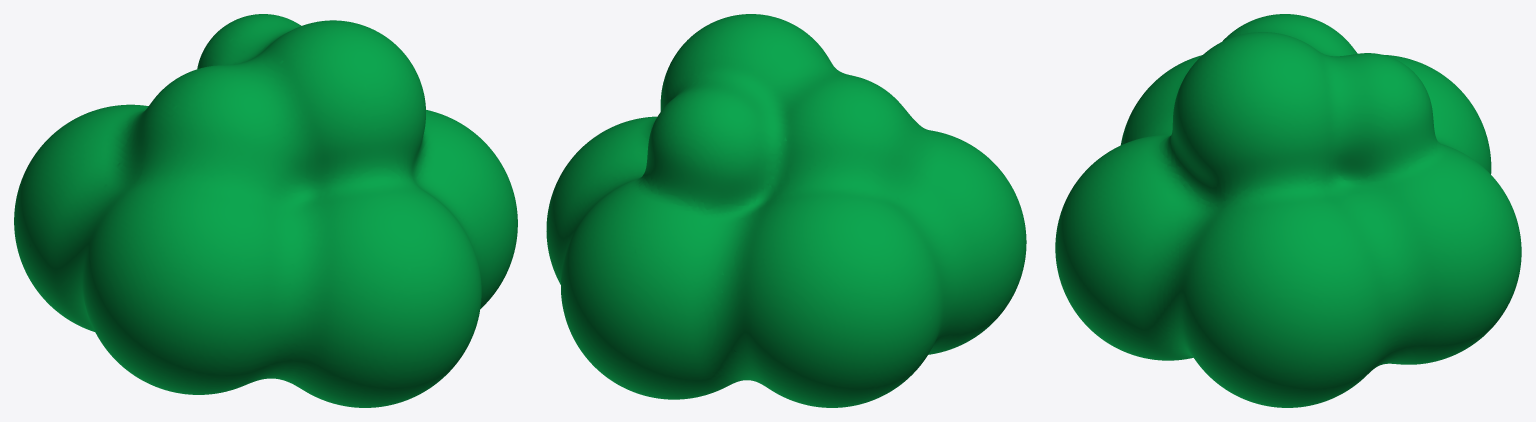
File: cartoonish_bush.glb
3 views of the same model, side by side, from view 1: azimuth 30°, elevation 25°; view 2: azimuth 150°, elevation 25°; view 3: azimuth 270°, elevation 25° (orthographic). The views are drawn at different scales.
Visible parts, largest first — view 1: Mball.001_0; view 2: Mball.001_0; view 3: Mball.001_0.
Boxes of the visible parts, x1,y1,x2,y2 form: Mball.001_0: (14,14,517,407); Mball.001_0: (546,14,1026,407); Mball.001_0: (1055,14,1521,407).
Bounding box in the file's own units: 6.29 × 4.56 × 6.05.
